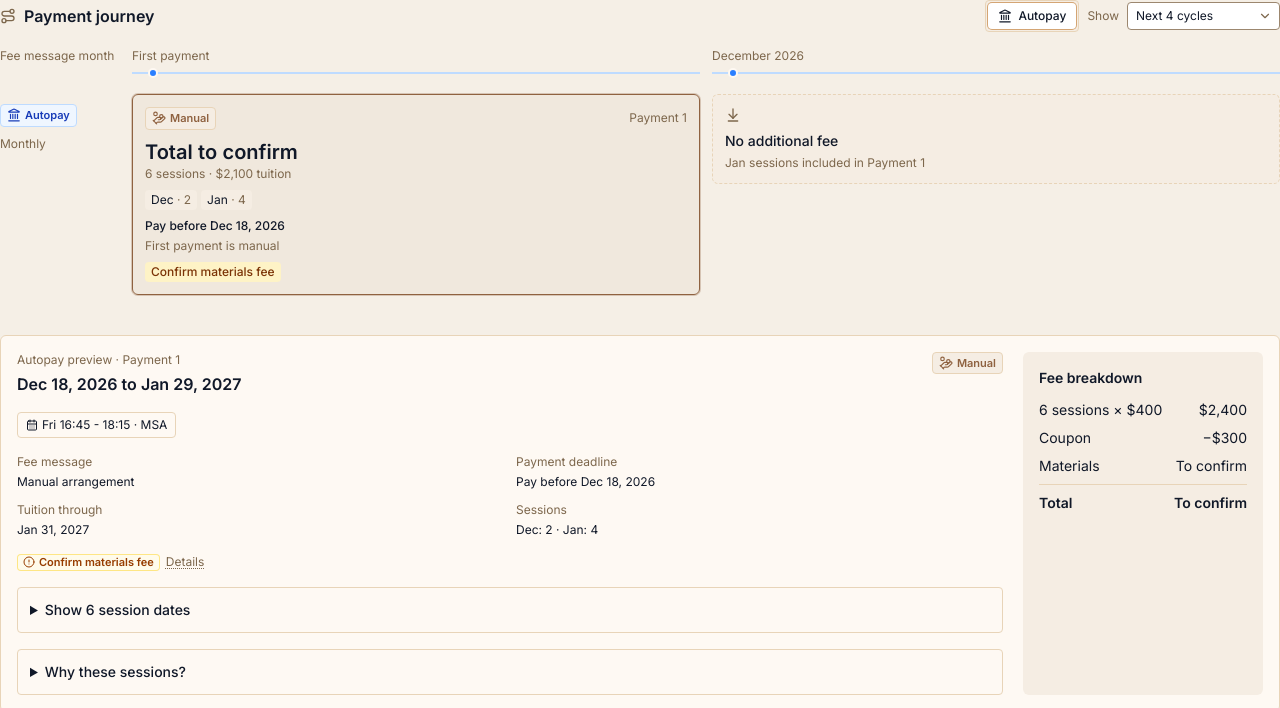
visual payment journey › keeps an autopay-plan first payment manual and never substitutes an unknown total
Expected: the text "Manual" below "Fee message month" is shown, top-left (170, 111), bottom-right (209, 125)
Expected: the text "First payment is manual" is shown, top-left (145, 238), bottom-right (280, 252)
What coordinates should you click on to do the following:
click the heading "Show 6 session dates"
I would click on:
 (118, 610)
Its box is top-left (45, 601), bottom-right (190, 618).
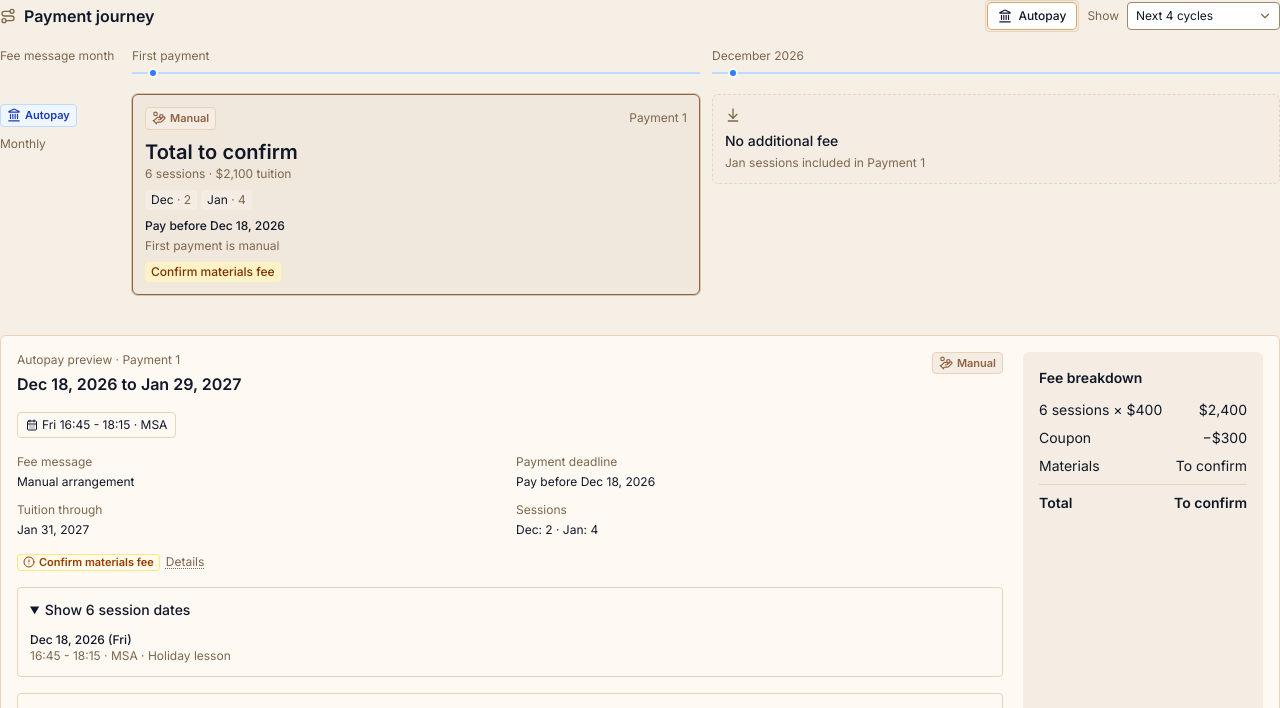
Result: the text "16:45 - 18:15 · MSA · Holiday lesson" is shown at top-left (30, 648), bottom-right (231, 663)
